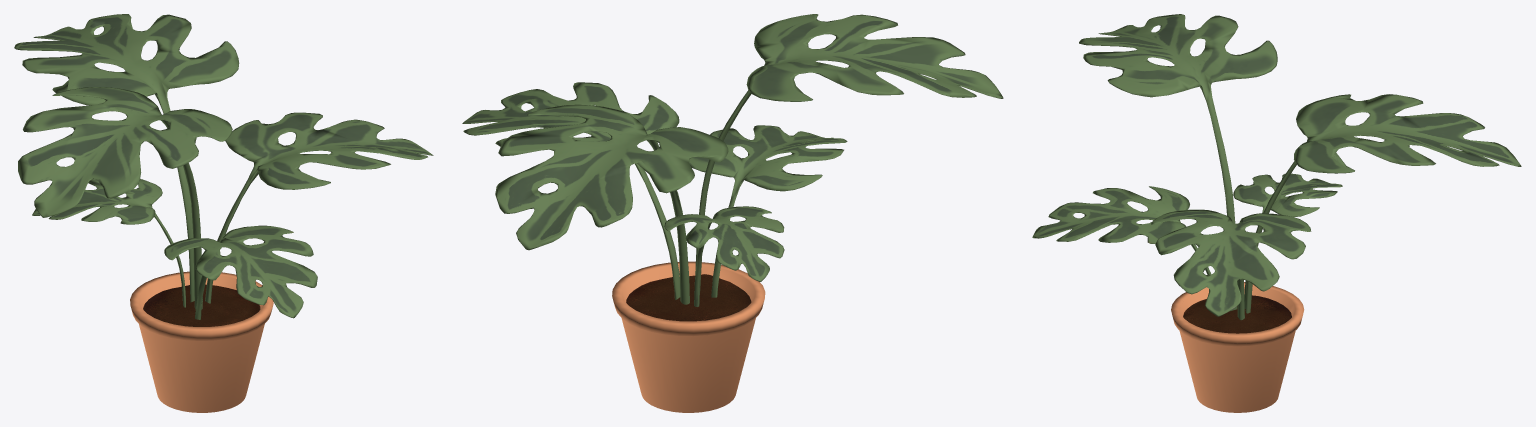
Rendered from Monstera.fbx.
The picture shows the model from 3 angles, left to right: view 1: azimuth 30°, elevation 25°; view 2: azimuth 150°, elevation 25°; view 3: azimuth 270°, elevation 25°; orthographic projection. The views are drawn at different scales.
Parts seen in each view (by area): view 1: Plane.002; view 2: Plane.002; view 3: Plane.002.
Boxes of the visible parts, x1,y1,x2,y2 form: Plane.002: [14, 14, 433, 412]; Plane.002: [462, 14, 1003, 412]; Plane.002: [1032, 14, 1521, 412].
Size of the model in its own units: 756 by 521 by 771.
